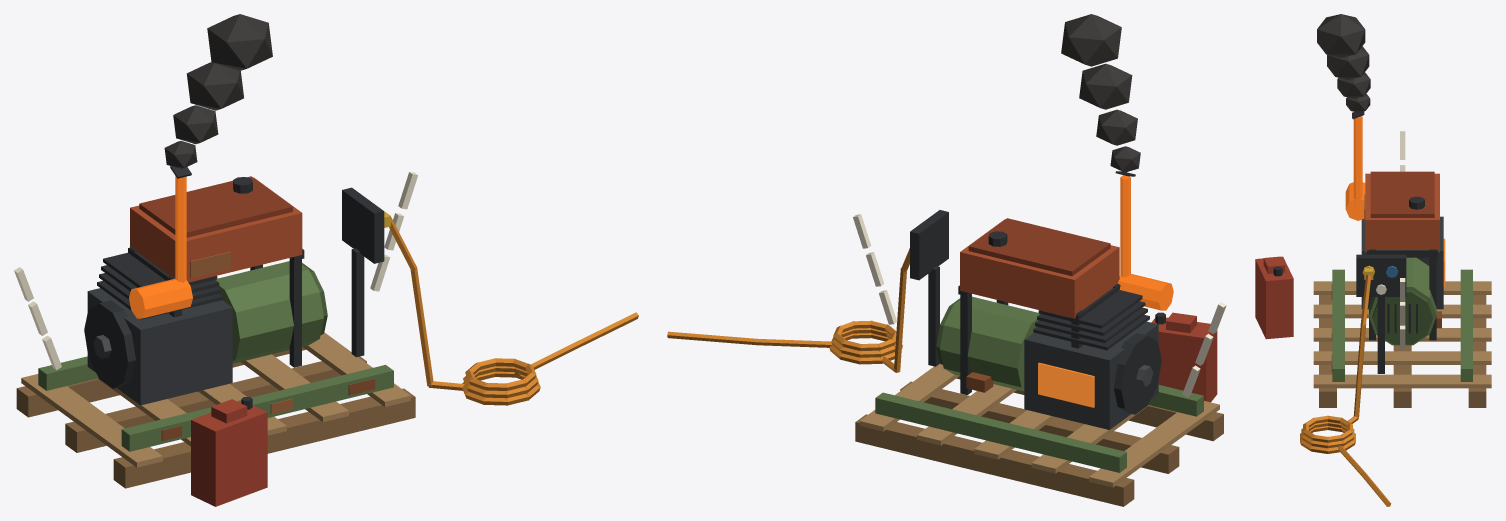
The model's file is lwf_farm_diesel_overloaded_v1.glb.
The picture shows the model from 3 angles, left to right: view 1: azimuth 30°, elevation 25°; view 2: azimuth 150°, elevation 25°; view 3: azimuth 270°, elevation 25°; orthographic projection. The views are drawn at different scales.
Visible parts, largest first — view 1: LWF_FarmDiesel_Base, LWF_FarmDiesel_State_Overloaded; view 2: LWF_FarmDiesel_Base, LWF_FarmDiesel_State_Overloaded; view 3: LWF_FarmDiesel_Base, LWF_FarmDiesel_State_Overloaded.
Boxes of the visible parts, left/top/right/bottom form: LWF_FarmDiesel_Base: left=16, top=176, right=638, bottom=506; LWF_FarmDiesel_State_Overloaded: left=14, top=14, right=464, bottom=390; LWF_FarmDiesel_Base: left=667, top=210, right=1223, bottom=506; LWF_FarmDiesel_State_Overloaded: left=853, top=14, right=1226, bottom=407; LWF_FarmDiesel_Base: left=1255, top=171, right=1491, bottom=506; LWF_FarmDiesel_State_Overloaded: left=1317, top=14, right=1445, bottom=427.
Size of the model in its own units: 3.06 by 2.07 by 1.33.
2 materials, 2 textured.
